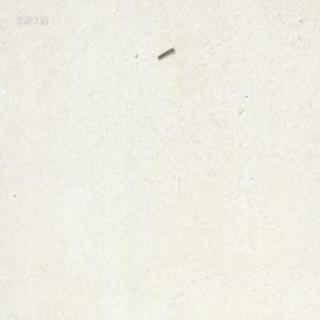Bolttrack_idkeyframe: (156, 46, 173, 59)
